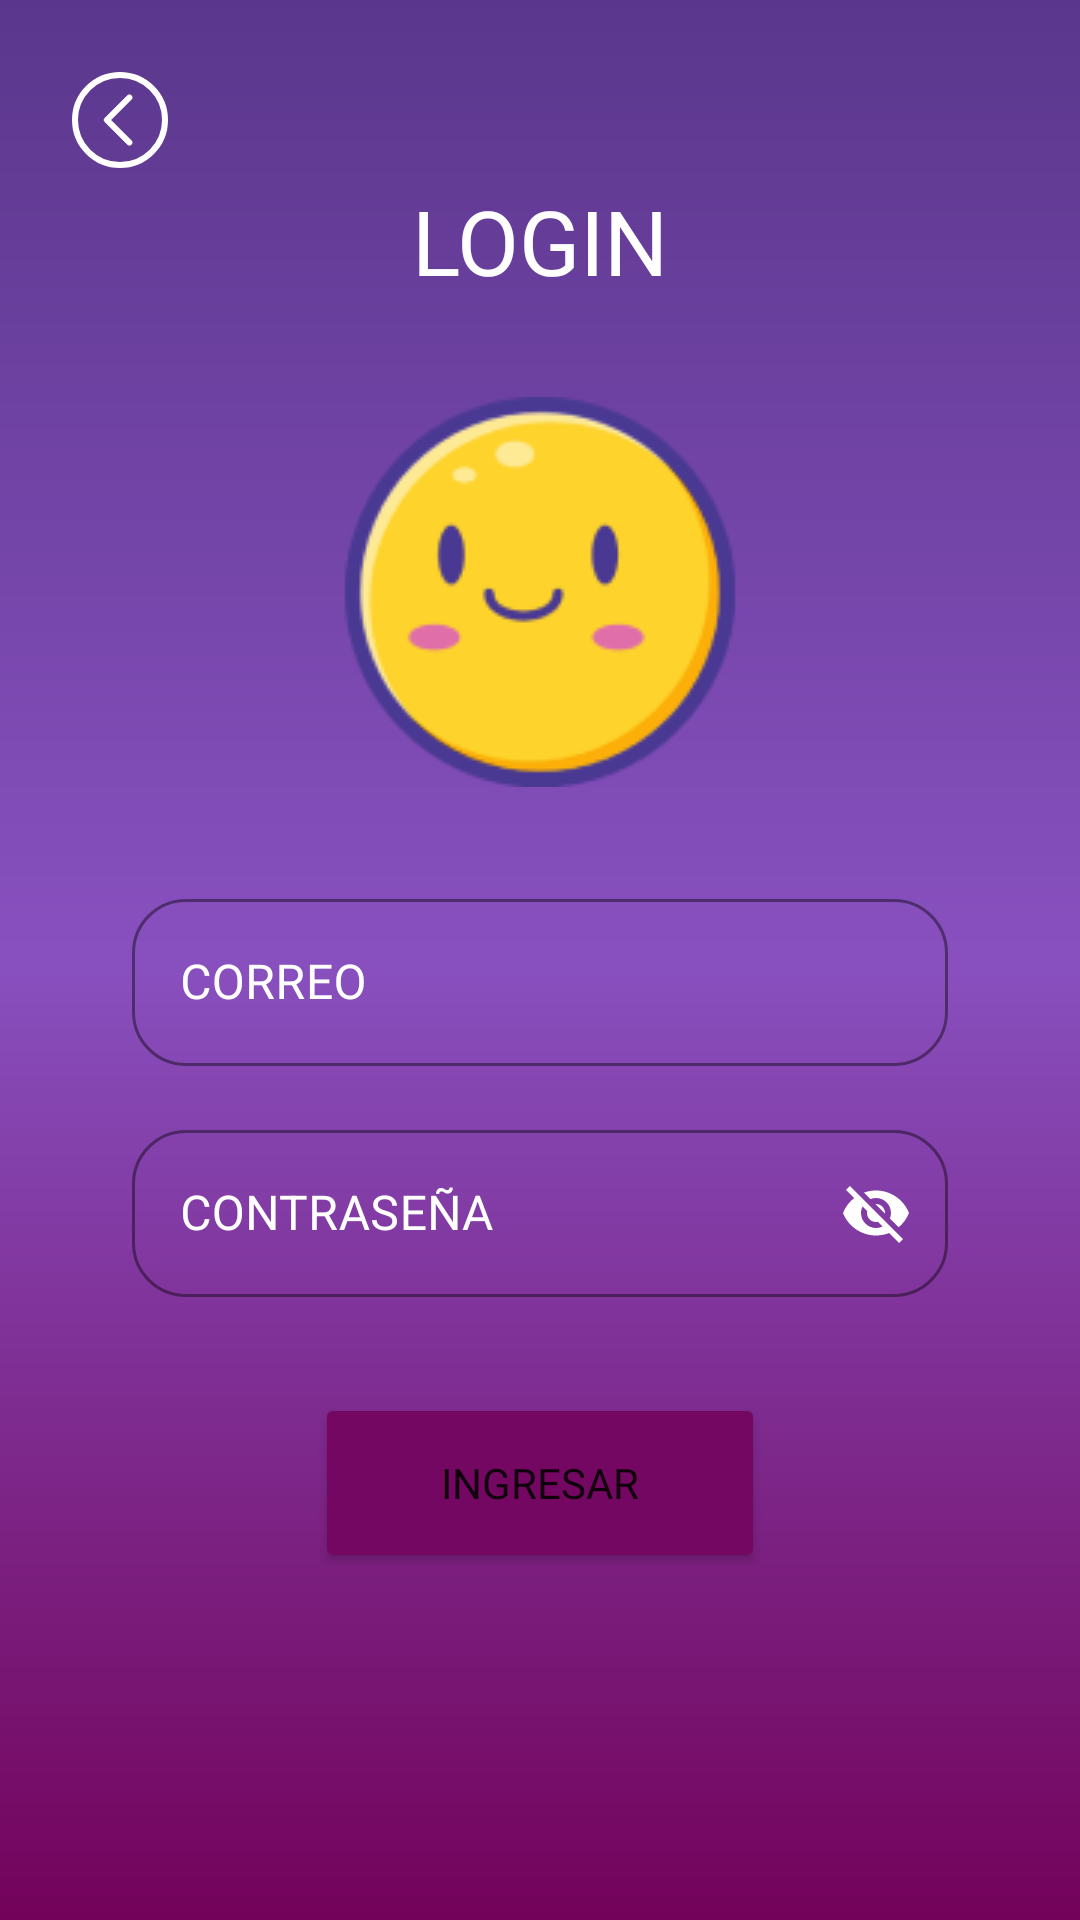

Icons on this 1080*1920 Android screen, each with the point to tap as (x=x, y=y):
back: (x=120, y=120)
